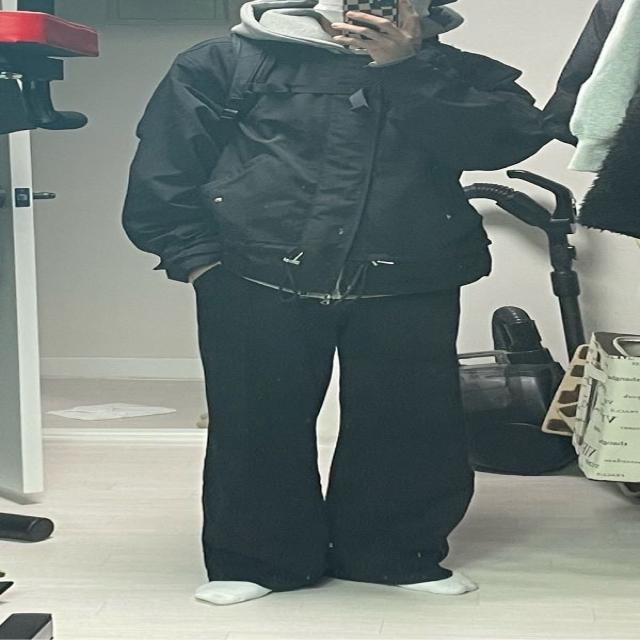jacket: (117, 3, 567, 295)
slacks: (199, 269, 484, 588)
